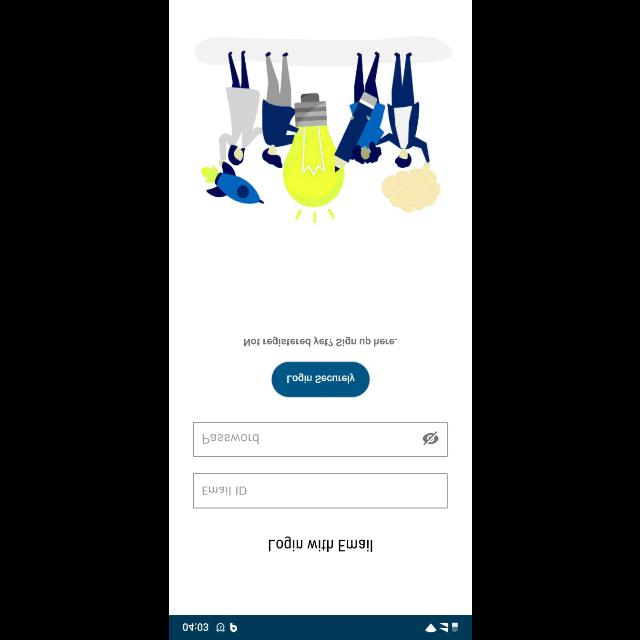icon: (422, 432, 438, 444)
image: (195, 36, 450, 224)
input: (193, 472, 447, 508), (193, 422, 447, 456)
text: (268, 536, 372, 552), (244, 336, 396, 346), (202, 434, 258, 444), (202, 486, 245, 494)
textbutton: (271, 361, 369, 397)
uppertaskbar: (169, 615, 471, 639)
